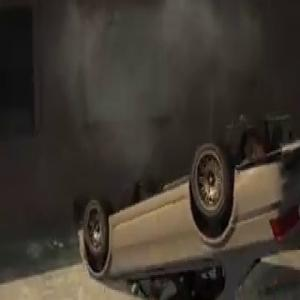severe: (68, 113, 300, 300)
